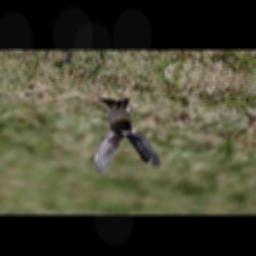Swallow: (74, 95, 181, 182)
